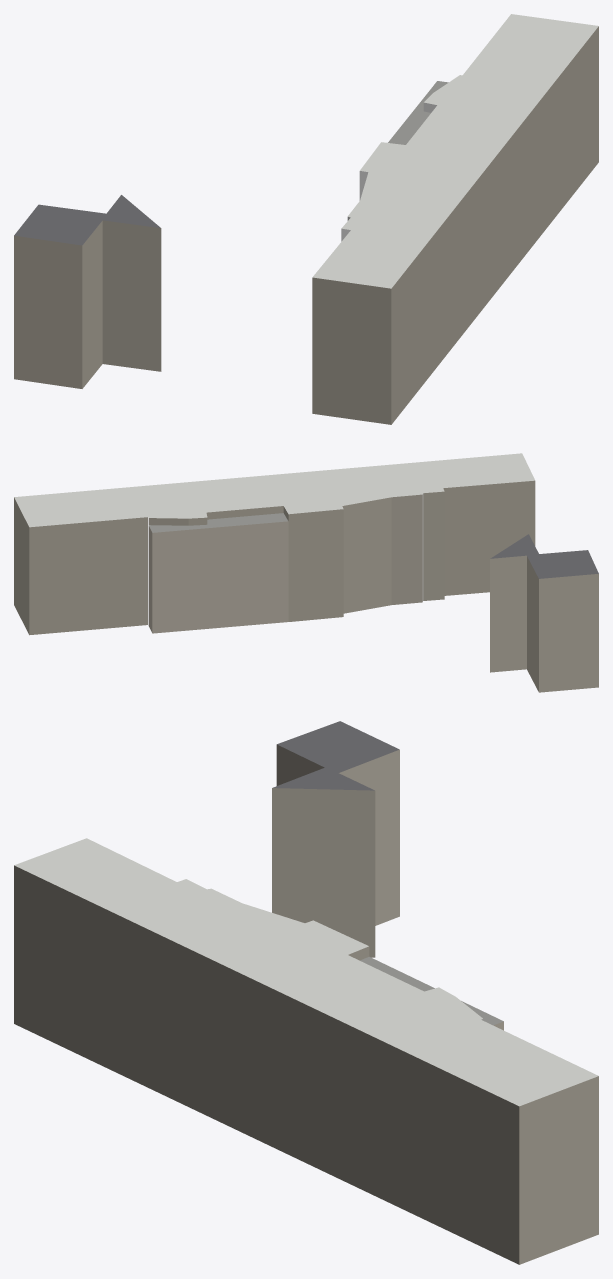
3 views of the same model, one above another, from view 1: azimuth 30°, elevation 25°; view 2: azimuth 150°, elevation 25°; view 3: azimuth 270°, elevation 25° (orthographic). The views are drawn at different scales.
Visible parts, largest first — view 1: tuile; view 2: tuile; view 3: tuile.
Part boxes in pixels (bbox=[...]): tuile: bbox=[14, 14, 598, 424]; tuile: bbox=[14, 453, 598, 692]; tuile: bbox=[14, 721, 598, 1264].
Bounding box in the file's own units: 116 × 24.24 × 76.4.
